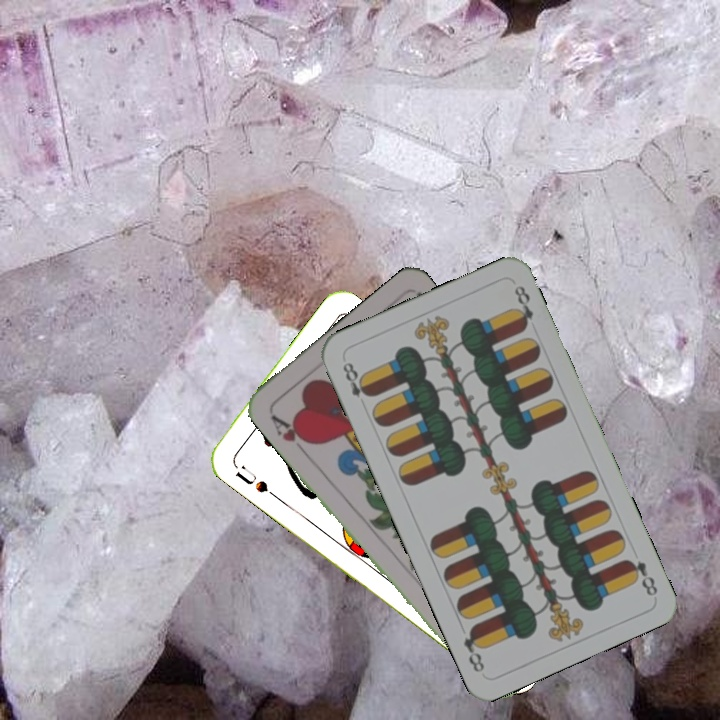E8: (621, 555, 660, 599), (338, 358, 374, 401)
HA: (266, 410, 315, 457)
SU: (231, 461, 280, 501)
